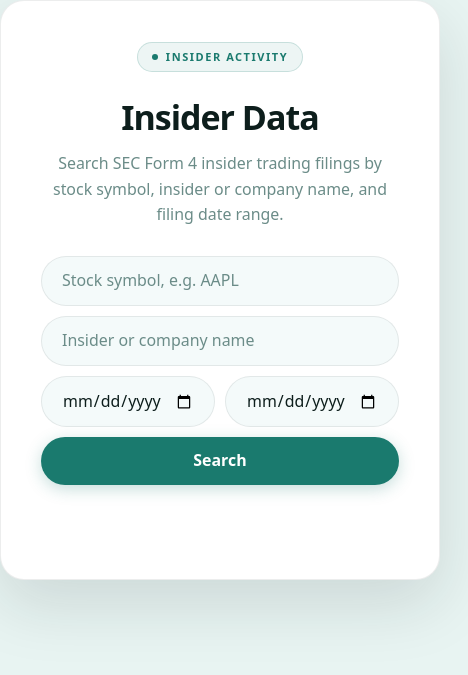
Test: InsiderData › shows the backend error message when the search fails
The width and height of the screenshot is (468, 675).
Type "ZZZZZ" into the field with id "txtInsiderSymbol" at (220,281), box [41, 256, 399, 306]
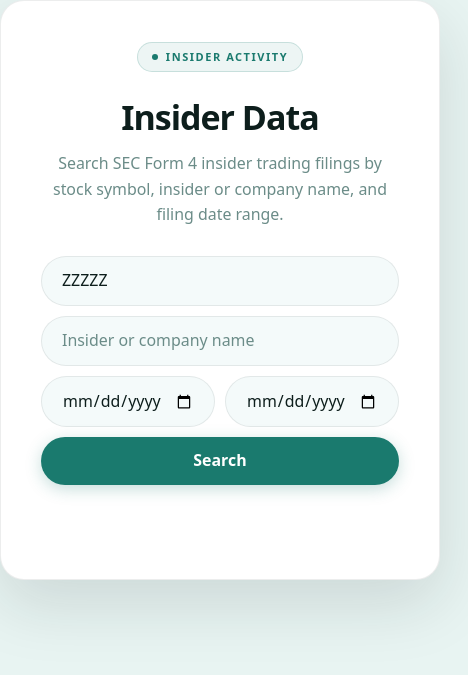
Click the button "Search" at (220,461), box [41, 438, 399, 485]
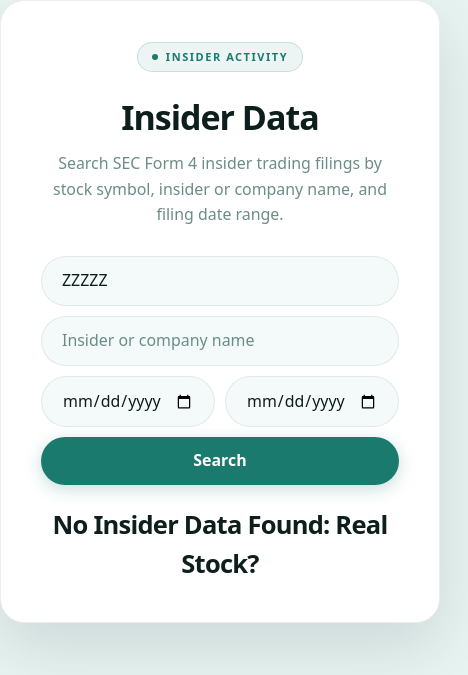
Now the text "No Insider Data Found: Real Stock?" is shown, box [41, 505, 399, 582]
